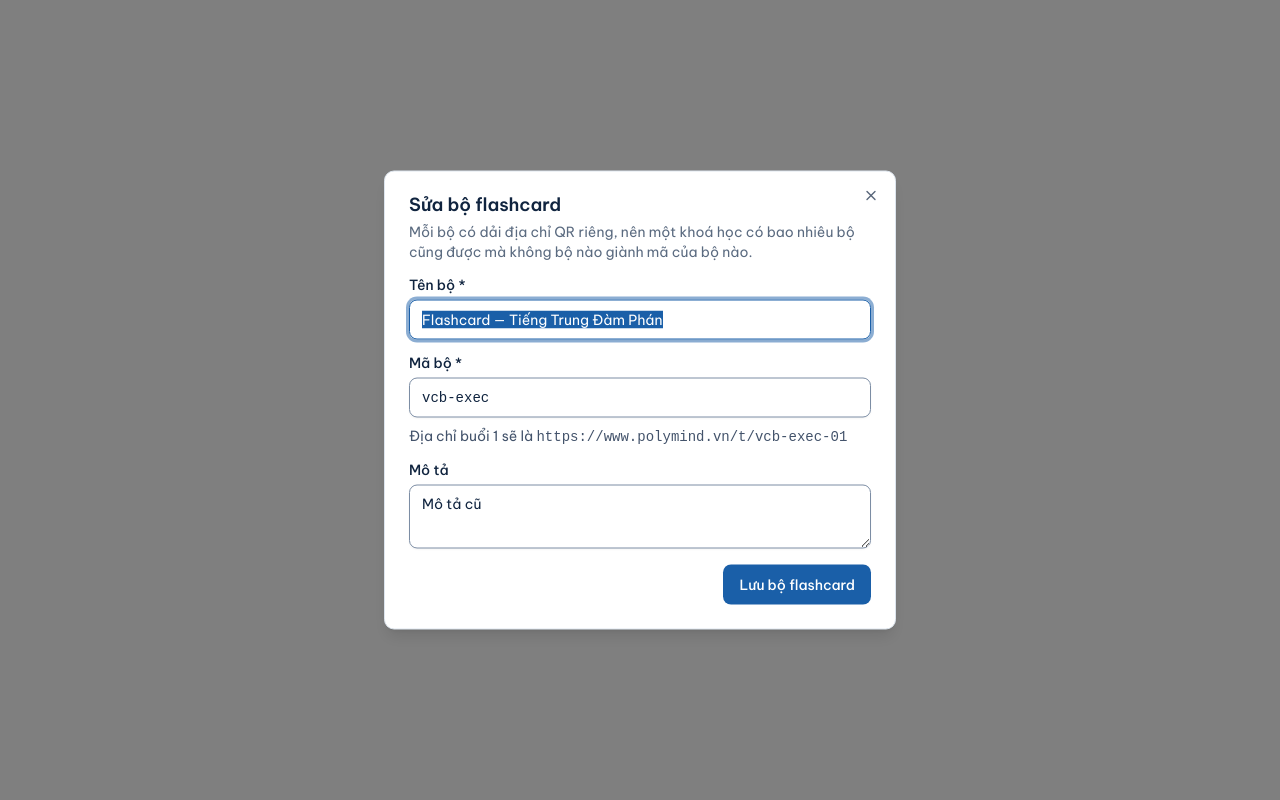
Test case: FlashcardDeckDialog › 🔴 bộ chưa có liên kết: gõ được mã CÓ dấu gạch nối, và địa chỉ xem trước bám theo
Clear the field labelled "Mã bộ *" at (640, 398), box [409, 378, 871, 418]
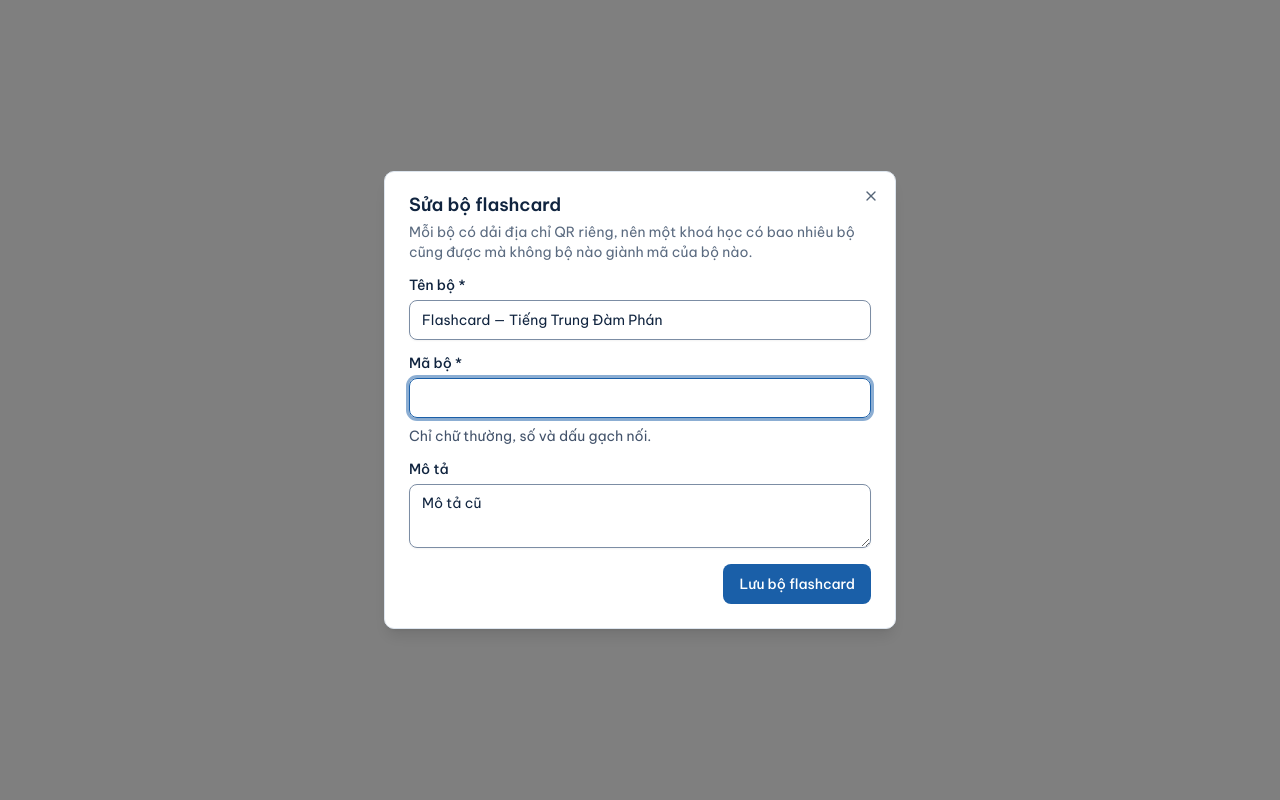
Type "VCB Ngu Phap" into the field labelled "Mã bộ *" at (640, 398), box [409, 378, 871, 418]
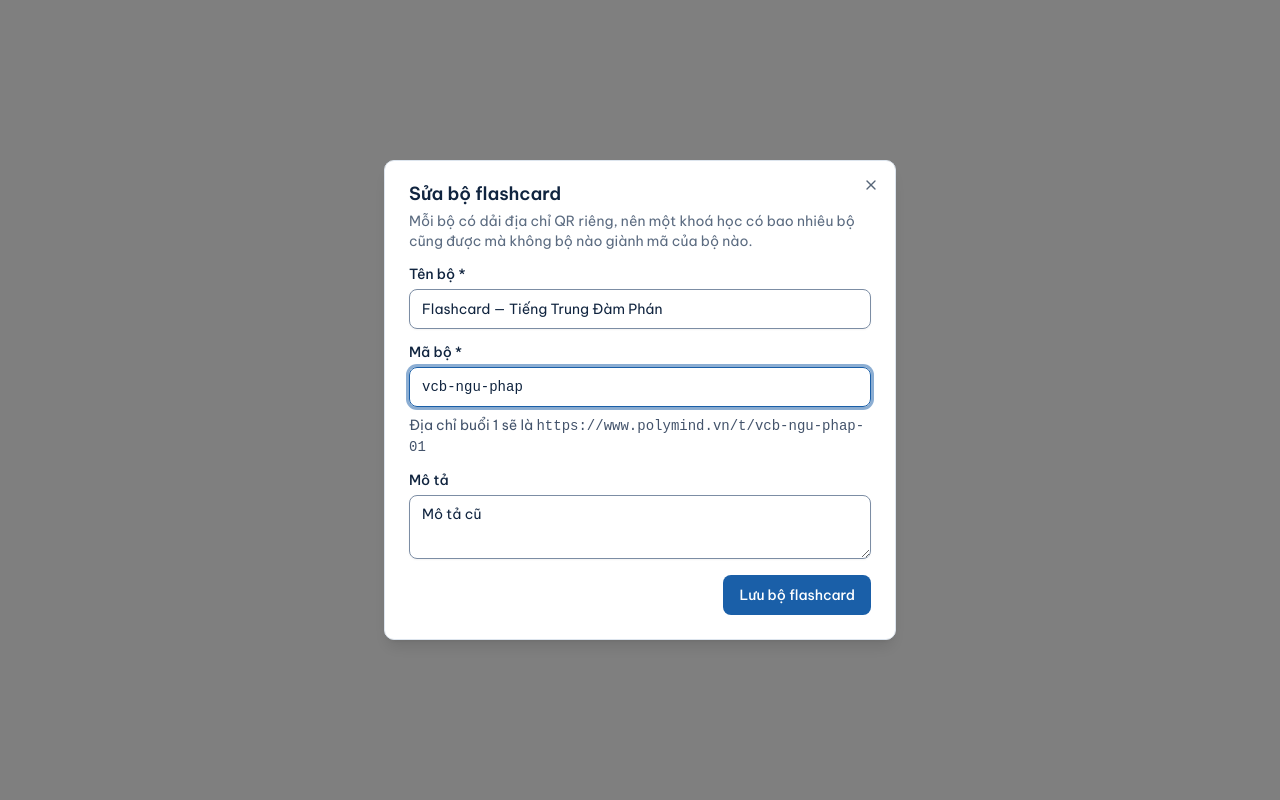
Check: the field labelled "Mã bộ *" holds "vcb-ngu-phap", box [409, 367, 871, 407]
Check: the text "https://www.polymind.vn/t/vcb-ngu-phap-01" is shown, box [409, 418, 864, 455]
